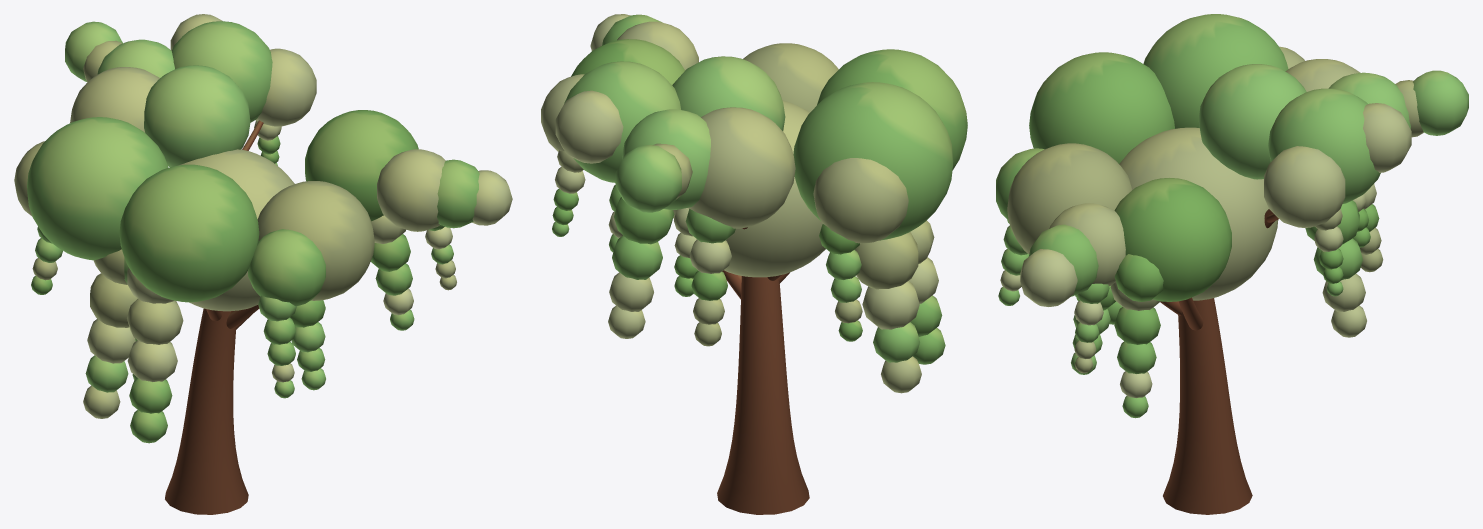
File: weeping-tree-107.obj
3 renders of one model, left to right at view 1: azimuth 30°, elevation 25°; view 2: azimuth 150°, elevation 25°; view 3: azimuth 270°, elevation 25°, orthographic. The views are drawn at different scales.
Visible parts, largest first — view 1: tree; view 2: tree; view 3: tree.
Part boxes in pixels (bbox=[...]): tree: bbox=[14, 14, 512, 514]; tree: bbox=[541, 14, 967, 514]; tree: bbox=[996, 14, 1468, 514].
Bounding box in the file's own units: 336 × 337 × 329.
